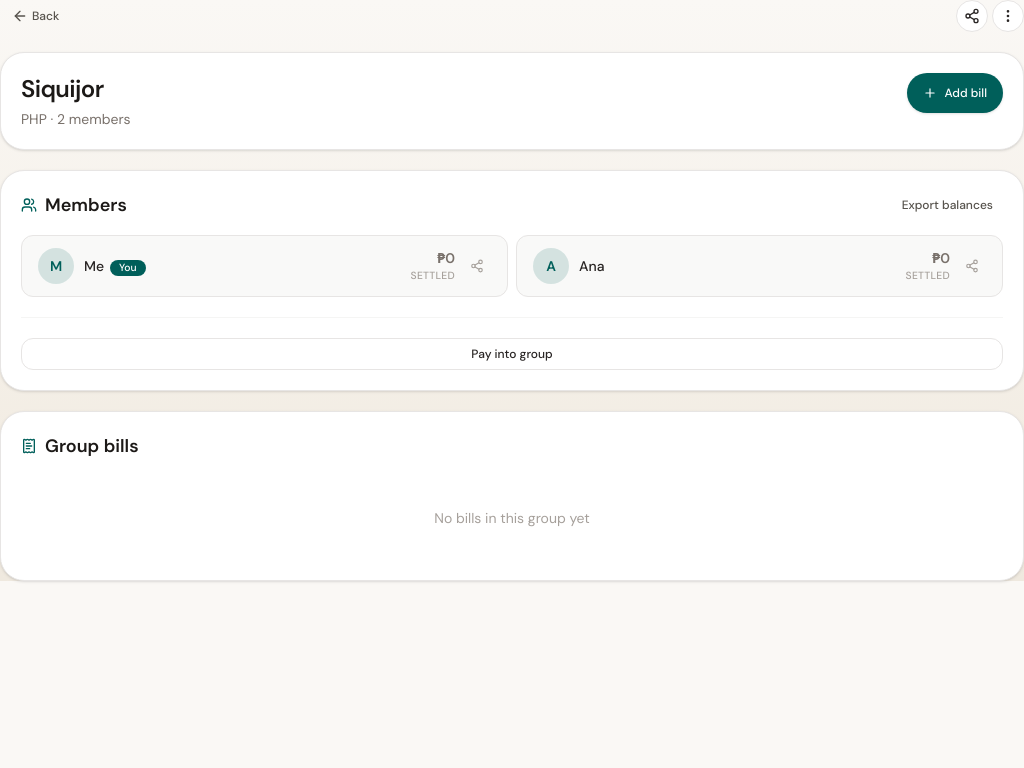
Test: GroupDetailPage payment history, server-paged (C8) › C8: a group with no payments shows the empty copy and no Show older
Click the button named "Group options" at point(1008, 16), box [992, 0, 1023, 32]
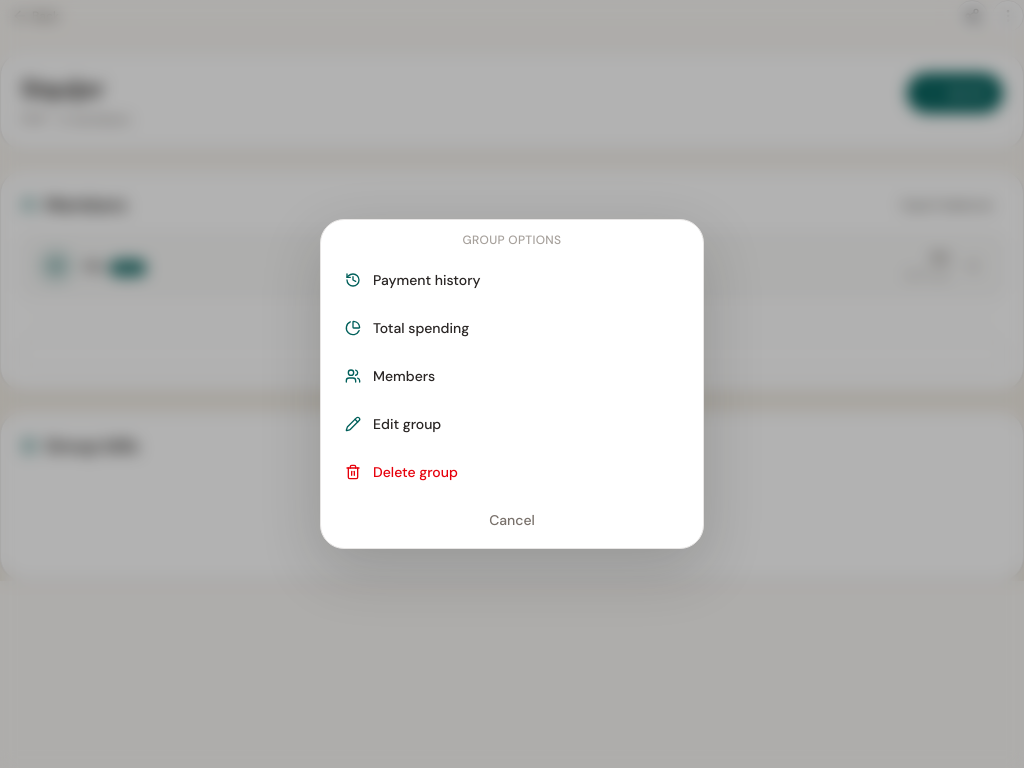
Check: the button "Payment history" is shown
Click the button "Payment history" at point(427, 280), box [329, 256, 695, 304]
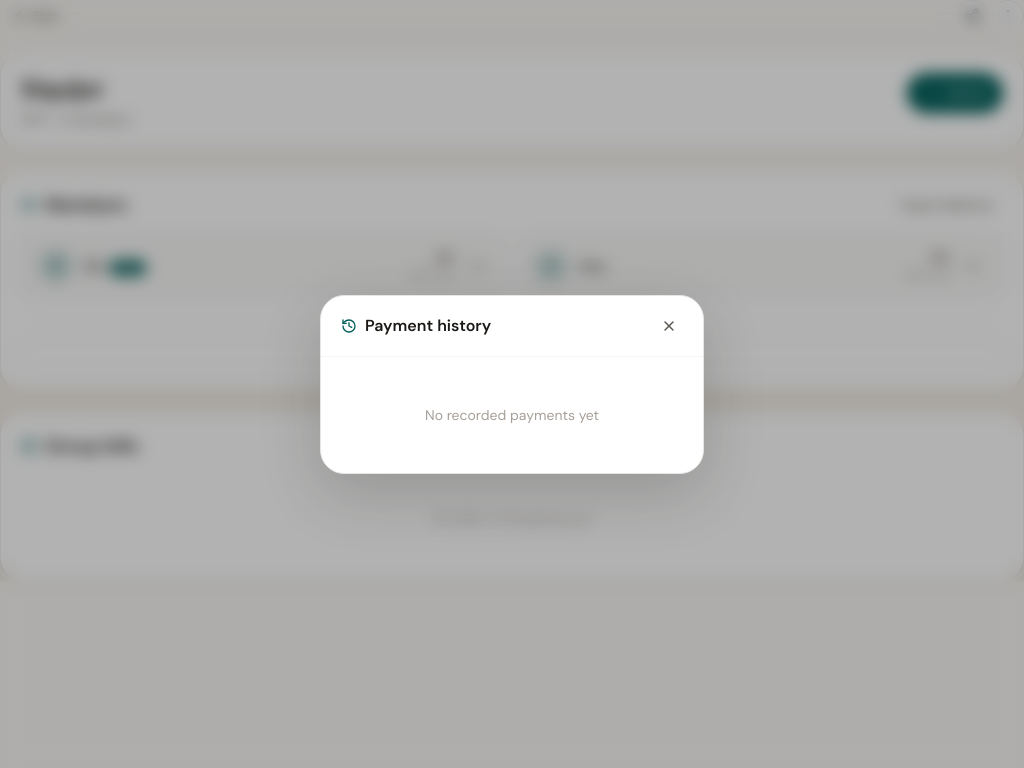
Check: the text "No recorded payments yet" is shown, box [425, 406, 599, 424]
